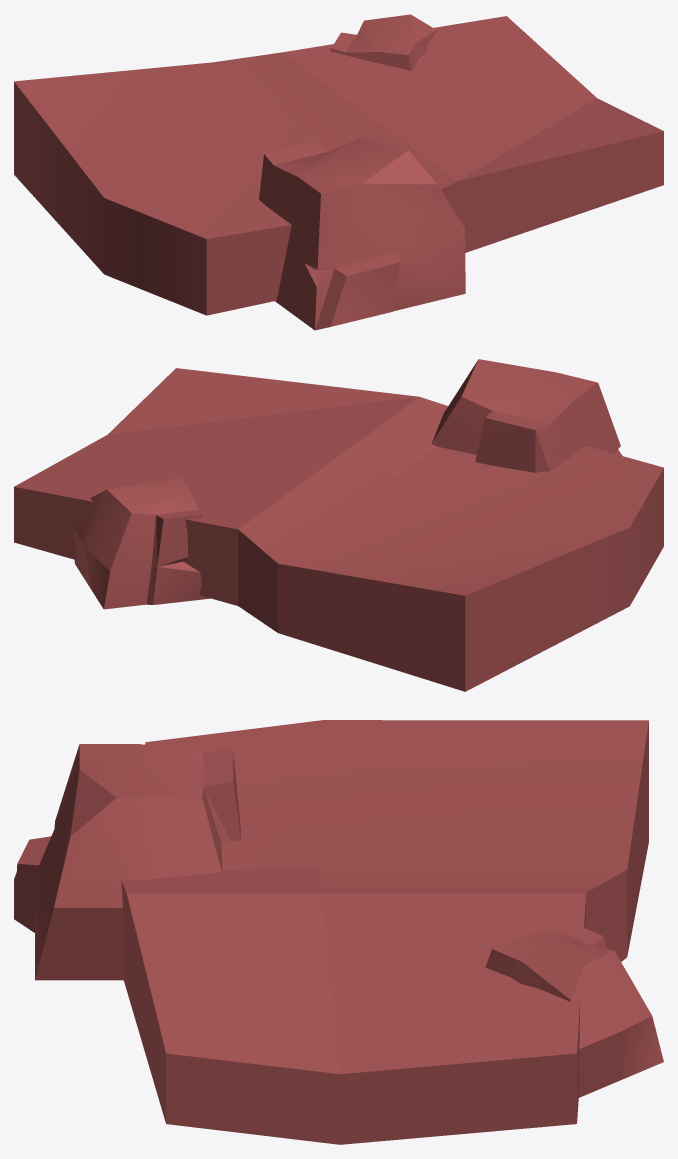
The model's file is SM_Flat_Stone_02.fbx.
The picture shows the model from 3 angles, top to bottom: view 1: azimuth 30°, elevation 25°; view 2: azimuth 150°, elevation 25°; view 3: azimuth 270°, elevation 25°; orthographic projection. The views are drawn at different scales.
Parts seen in each view (by area): view 1: Box070; view 2: Box070; view 3: Box070.
Boxes of the visible parts, box(x1,y1,x2,y2) form: Box070: box(14, 14, 663, 330); Box070: box(14, 359, 663, 691); Box070: box(14, 720, 663, 1144).
Bounding box in the file's own units: 140 × 35.32 × 121.
